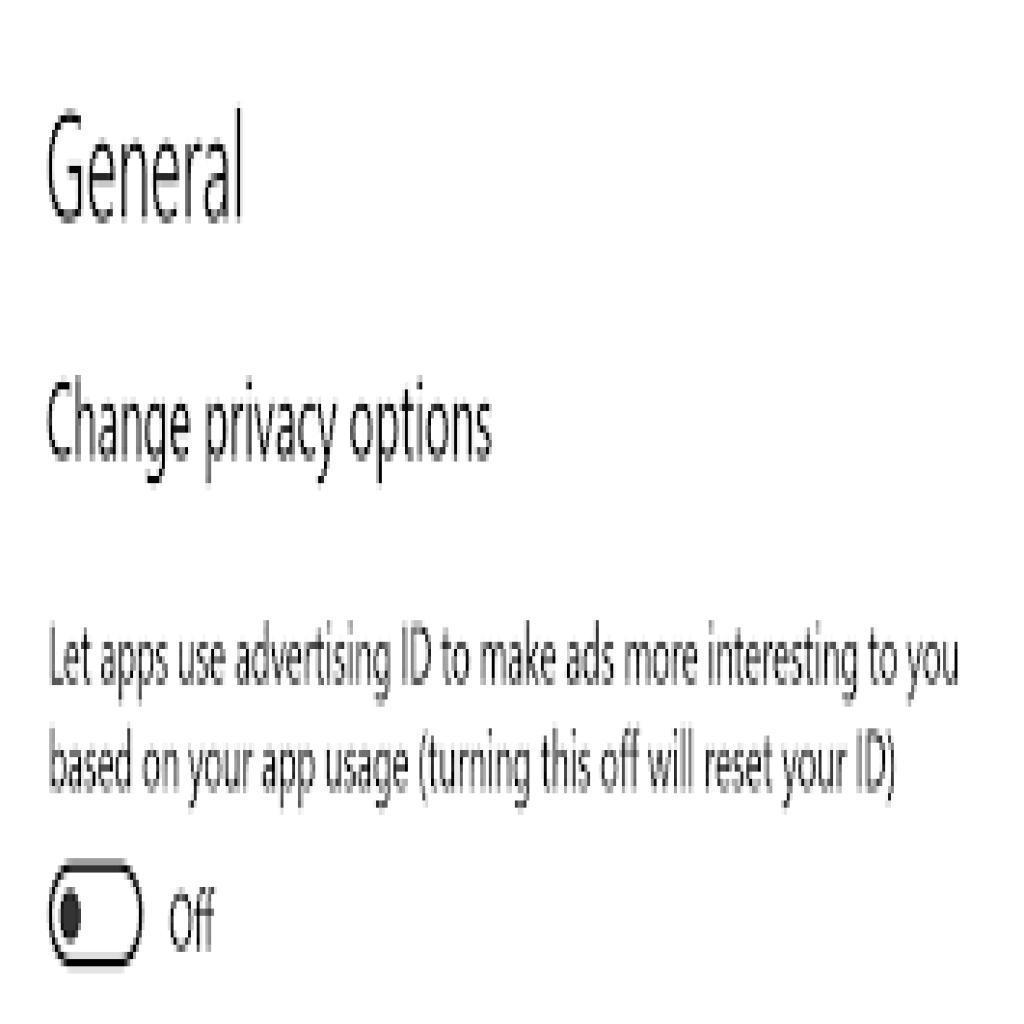switch: (54, 863, 148, 967)
